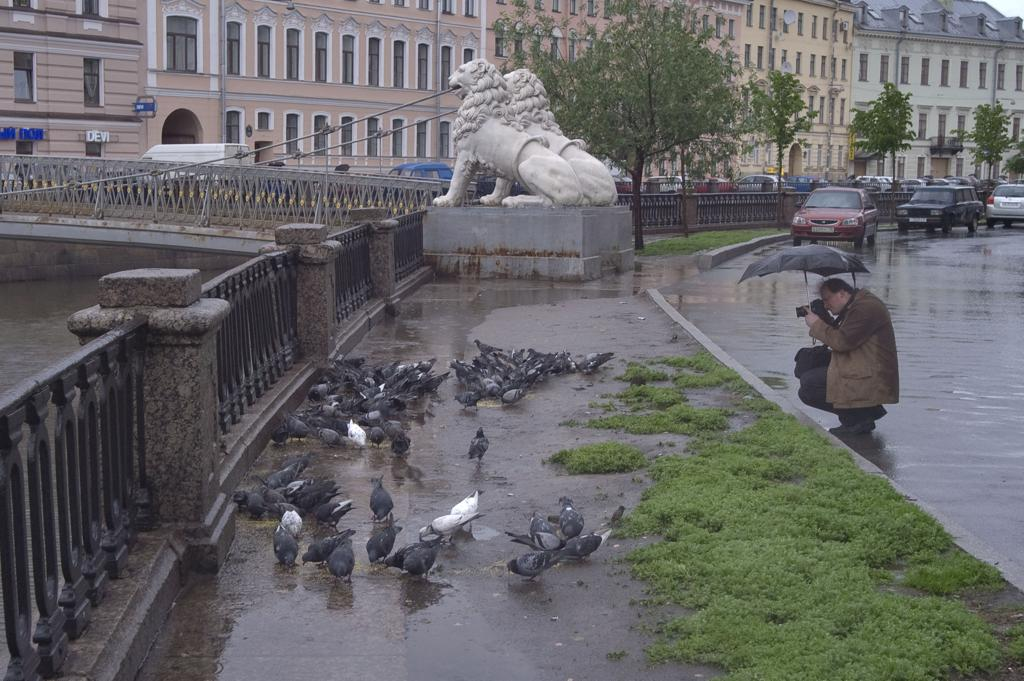face: (820, 285, 838, 314)
